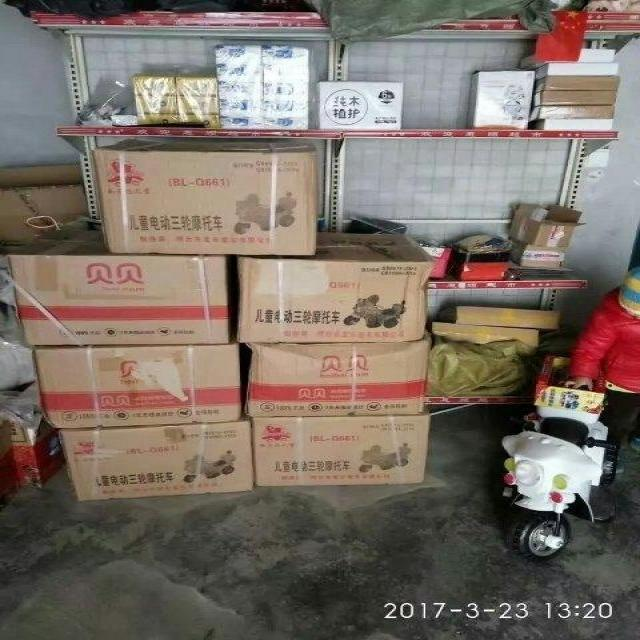box: (7, 225, 229, 343), (95, 139, 316, 255), (238, 231, 436, 339), (34, 341, 245, 431), (59, 421, 257, 500), (242, 339, 429, 418), (250, 416, 429, 489), (519, 48, 615, 130), (216, 44, 307, 127), (0, 383, 68, 486), (139, 70, 219, 125), (316, 82, 403, 132), (506, 202, 587, 252), (465, 72, 534, 127), (430, 321, 539, 349), (436, 307, 559, 327), (446, 246, 509, 281), (508, 238, 562, 266), (418, 236, 448, 276)
